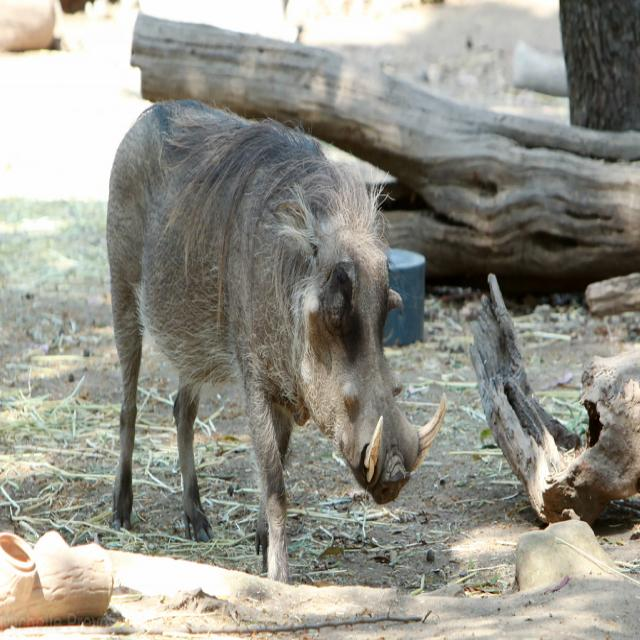Pig: (106, 100, 446, 584)
